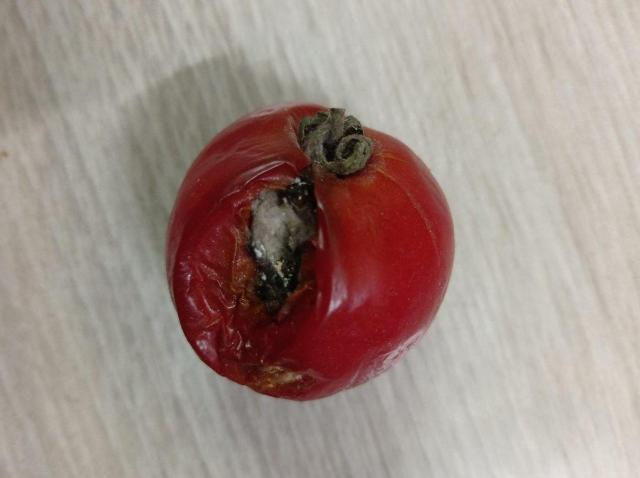defect: (169, 99, 457, 405)
